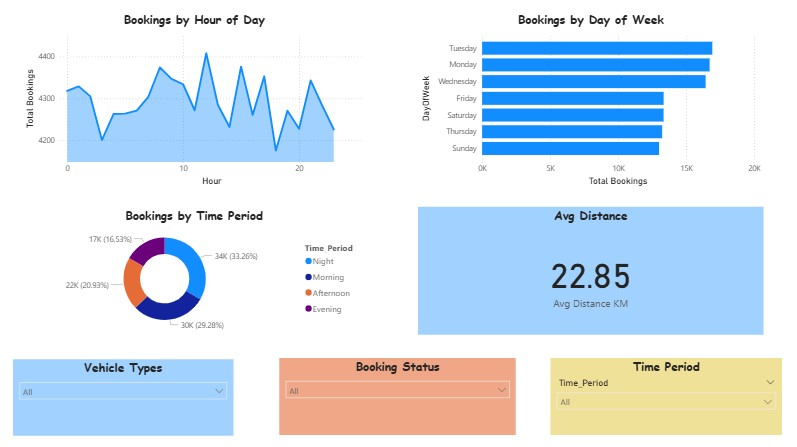

This screenshot's page, from the dashboard's own definition file:
{"tool":"powerbi","page":{"name":"Ride Patterns","canvas":[1280,720],"ordinal":2},"visuals":[{"type":"stackedAreaChart","title":"Bookings by Hour of Day","fields":{"Category":["cleaned_bookings.Hour"],"Y":["cleaned_bookings.Total Bookings"]},"box":[38.4,19.2,551.6,285.4],"z":0},{"type":"clusteredBarChart","title":"Bookings by Day of Week","fields":{"Y":["cleaned_bookings.Total Bookings"],"Category":["cleaned_bookings.DayOfWeek"]},"box":[671,19.2,553,285.4],"z":1000},{"type":"donutChart","title":"Bookings by Time Period","fields":{"Category":["cleaned_bookings.Time_Period"],"Y":["cleaned_bookings.Total Bookings"]},"box":[38.4,334.8,551.6,204.5],"z":2000},{"type":"card","title":"Avg Distance","fields":{"Values":["cleaned_bookings.Avg Distance KM"]},"box":[671,334.8,553,204.5],"z":3000},{"type":"slicer","title":"Vehicle Types","fields":{"Values":["cleaned_bookings.Vehicle_Type"]},"box":[24.7,577.7,352.7,122.1],"z":3001},{"type":"slicer","title":"Booking Status","fields":{"Values":["cleaned_bookings.Booking_Status"]},"box":[450.1,576.3,378.7,123.5],"z":3002},{"type":"slicer","title":"Time Period","fields":{"Values":["cleaned_bookings.Time_Period"]},"box":[883.7,576.3,370.5,123.5],"z":3003}]}

Visuals, with their boxes in screenshot pixels (x1, y1, x2, y2), scaled from the page's 1280x720 canvas onto the 797x447 screenshot:
"Bookings by Hour of Day" stackedAreaChart: Rect(24, 12, 367, 189)
"Bookings by Day of Week" clusteredBarChart: Rect(418, 12, 762, 189)
"Bookings by Time Period" donutChart: Rect(24, 208, 367, 335)
"Avg Distance" card: Rect(418, 208, 762, 335)
"Vehicle Types" slicer: Rect(15, 359, 235, 434)
"Booking Status" slicer: Rect(280, 358, 516, 434)
"Time Period" slicer: Rect(550, 358, 781, 434)
